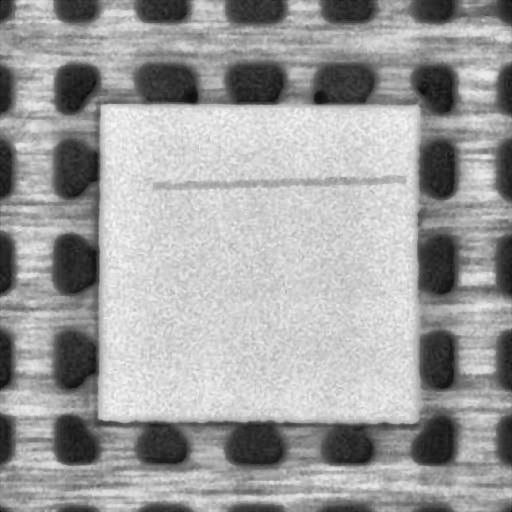DIE_CRACK: (148, 168, 405, 189)
